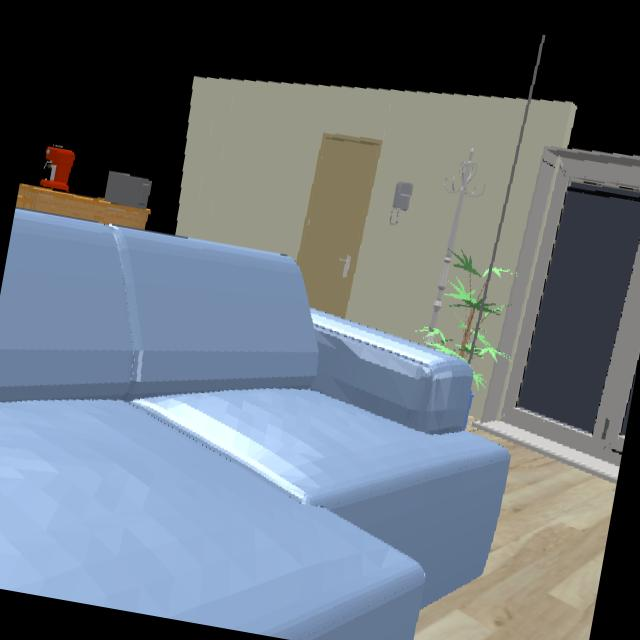sofa: (0, 209, 511, 640)
